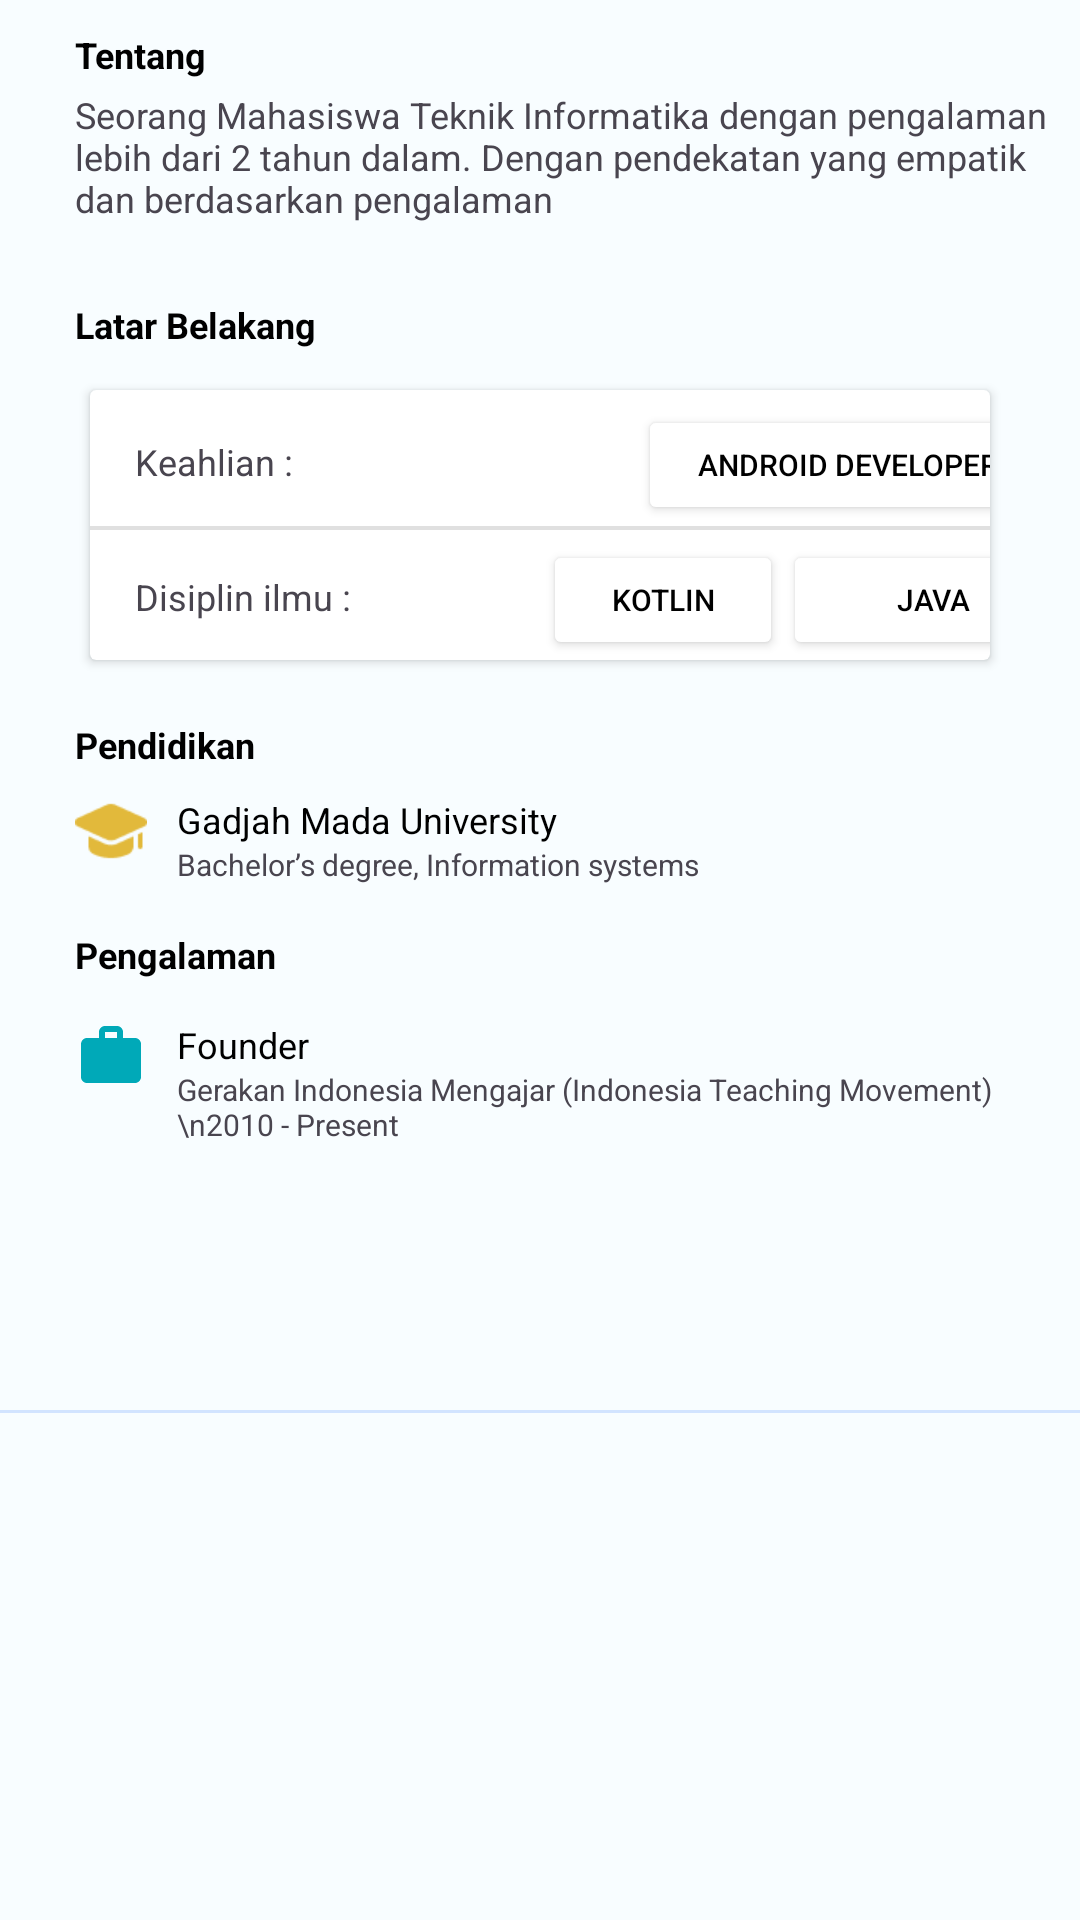

Where icons sit on this 1080w x 1920h app screen, as (x1, y1, x2, y2):
education: (75, 803, 147, 859)
work: (81, 1026, 141, 1083)
